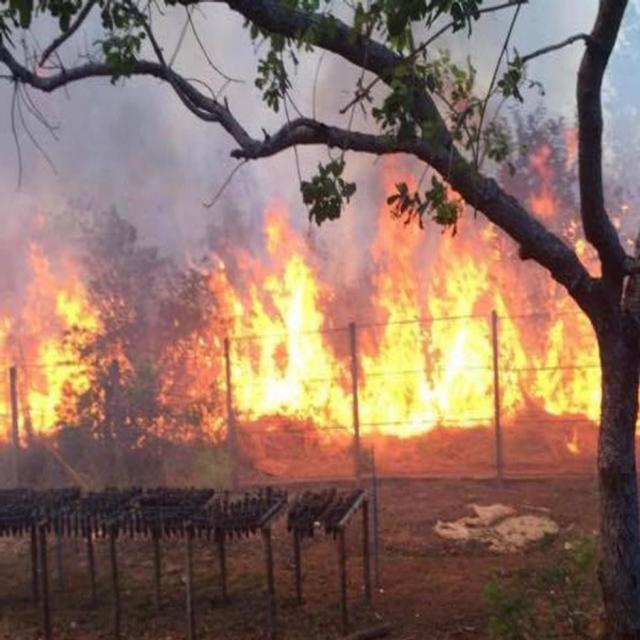Fire: (245, 258, 597, 436), (12, 262, 95, 417)
Smoke: (50, 84, 198, 210), (532, 3, 586, 98), (188, 18, 244, 94)
